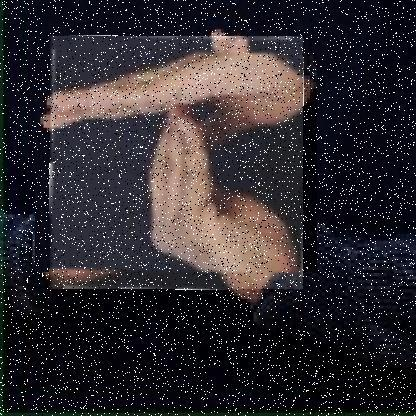Z: (48, 36, 302, 290)
